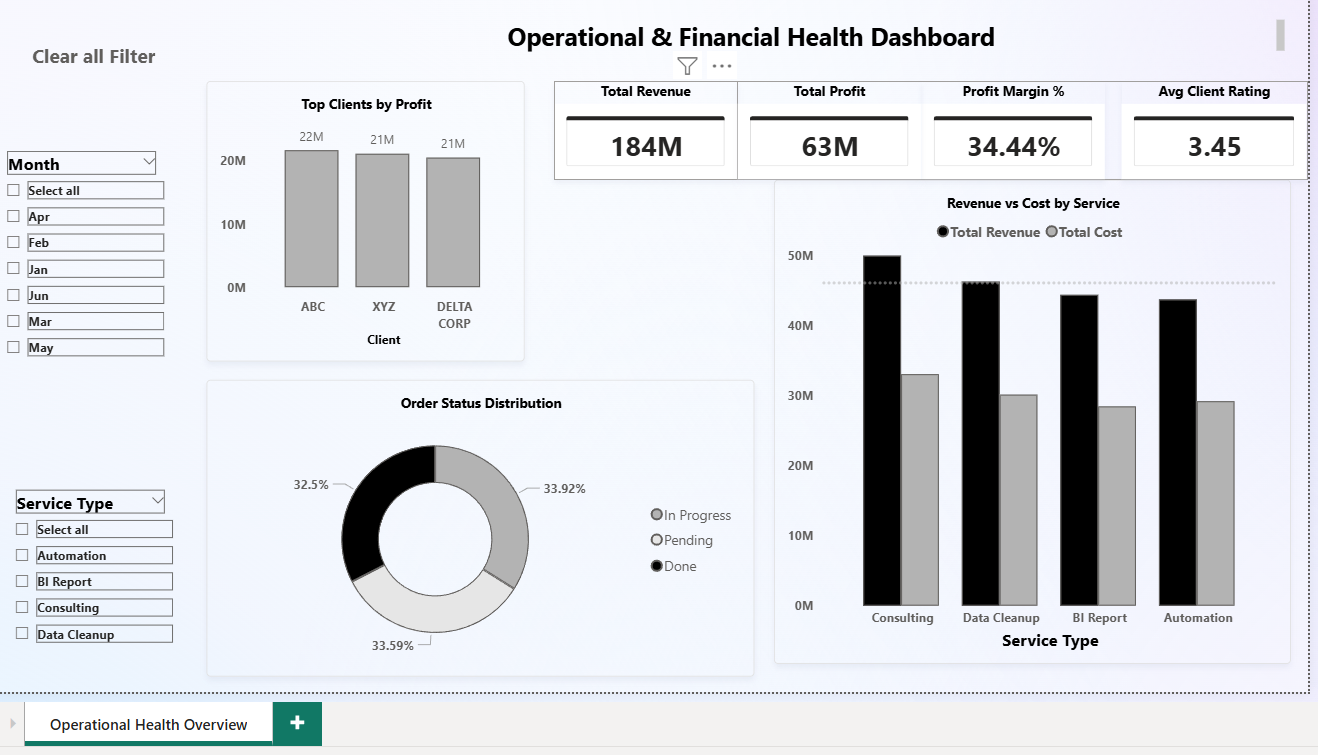

The page's visual inventory and layout, read from the dashboard file:
{"tool":"powerbi","page":{"name":"Operational Health Overview","canvas":[1280,720],"ordinal":0},"visuals":[{"type":"cardVisual","title":"Total Revenue","fields":{"Data":["Measure.Total Revenue"]},"box":[543.2,122.8,179.8,96.1],"z":0,"group":"g1"},{"type":"slicer","fields":{"Values":["Dim_Date.Month"]},"box":[0,190.4,162,242.1],"z":0,"group":"g2"},{"type":"clusteredColumnChart","title":"Revenue vs Cost by Service","fields":{"Category":["Fact_Orders.Service_Type"],"Y":["Measure.Total Revenue","Measure.Total Cost"]},"box":[758.2,218.9,505.5,473.4],"z":0},{"type":"clusteredColumnChart","title":"Profit by Client","fields":{"Category":["Dim_Client.Dim_Client"],"Y":["Measure.Total Profit"]},"box":[202.9,122.8,311.5,274.1],"z":1000},{"type":"cardVisual","title":"Avg Client Rating","fields":{"Data":["Measure.Avg Client Rating"]},"box":[1098.5,122.8,181.5,96.1],"z":1000,"group":"g1"},{"type":"slicer","fields":{"Values":["Fact_Orders.Service_Type"]},"box":[8.9,521.4,162,170.9],"z":1000,"group":"g2"},{"type":"cardVisual","title":"Profit Margin %","fields":{"Data":["Measure.Profit Margin %"]},"box":[902.7,122.8,179.8,96.1],"z":2000,"group":"g1"},{"type":"donutChart","title":"Order Status Distribution","fields":{"Category":["Fact_Orders.Status"],"Y":["Measure.Total Orders"]},"box":[202.9,414.7,535.7,290.1],"z":2000},{"type":"actionButton","box":[7.1,72.5,170.7,49.8],"z":3000},{"type":"cardVisual","title":"Total Profit","fields":{"Data":["Measure.Total Profit"]},"box":[723,122.8,179.8,96.1],"z":3000,"group":"g1"},{"type":"group","id":"g1","title":"Group 1","box":[543.2,122.8,736.8,96.1],"z":4000},{"type":"group","id":"g2","title":"Group 2","box":[0,190.4,170.9,501.9],"z":5000},{"type":"textbox","box":[217.6,56.9,1045.3,41.2],"z":6000}]}

Visuals, with their boxes on the page's 1280x720 design canvas (x1, y1, x2, y2). These are canvas units, not pixel positions in the 1318x755 screenshot, which may show the page scaled, cropped or inside an application window:
"Total Revenue" cardVisual: Rect(543, 123, 723, 219)
slicer - Dim_Date.Month: Rect(0, 190, 162, 432)
"Revenue vs Cost by Service" clusteredColumnChart: Rect(758, 219, 1264, 692)
"Profit by Client" clusteredColumnChart: Rect(203, 123, 514, 397)
"Avg Client Rating" cardVisual: Rect(1098, 123, 1280, 219)
slicer - Fact_Orders.Service_Type: Rect(9, 521, 171, 692)
"Profit Margin %" cardVisual: Rect(903, 123, 1082, 219)
"Order Status Distribution" donutChart: Rect(203, 415, 739, 705)
actionButton: Rect(7, 72, 178, 122)
"Total Profit" cardVisual: Rect(723, 123, 903, 219)
"Group 1" group: Rect(543, 123, 1280, 219)
"Group 2" group: Rect(0, 190, 171, 692)
textbox: Rect(218, 57, 1263, 98)
